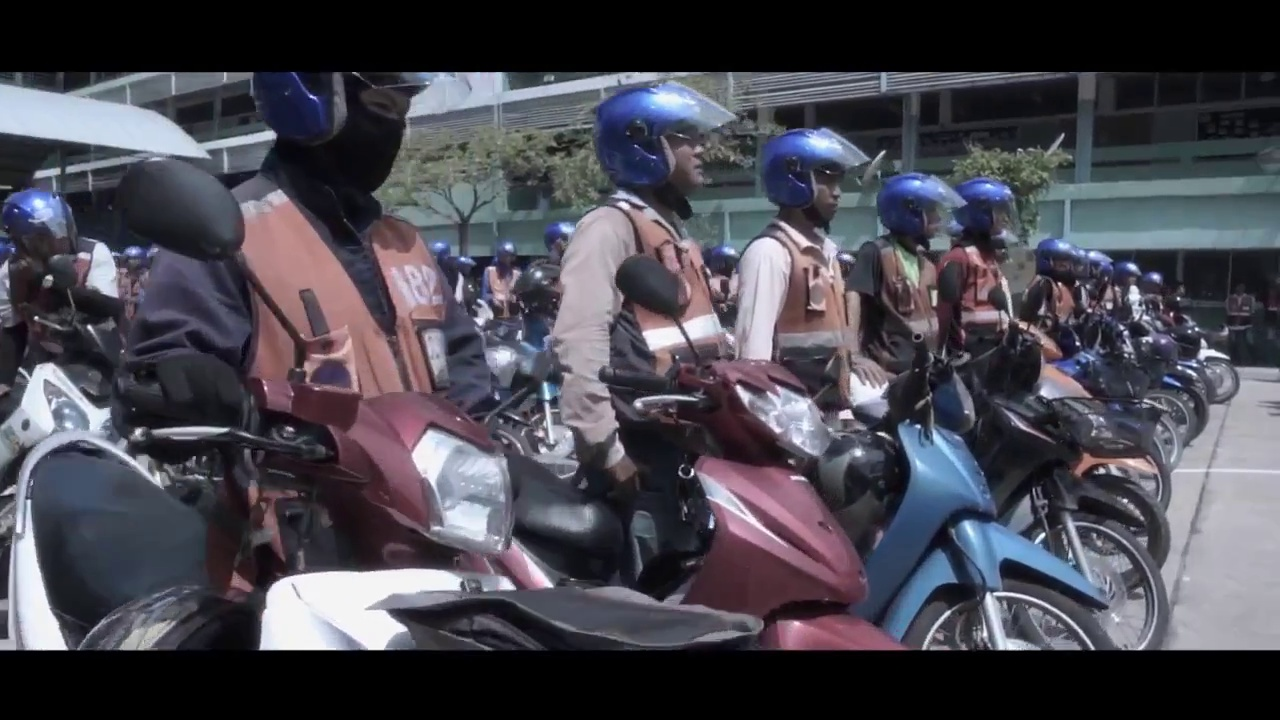helmet: (239, 71, 460, 194), (575, 71, 736, 194), (757, 107, 856, 229), (875, 150, 952, 244), (0, 194, 90, 254), (962, 164, 1019, 241), (1029, 234, 1074, 273), (1147, 263, 1164, 287), (1151, 270, 1168, 294)
